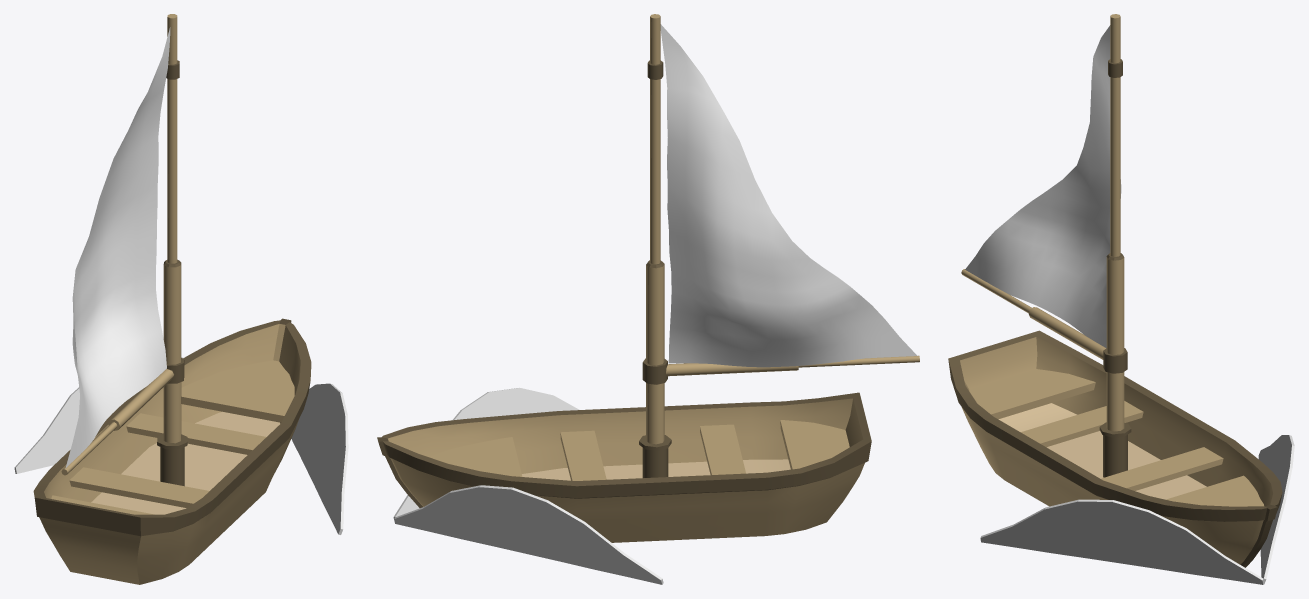
File: Ship_small.fbx
The picture shows the model from 3 angles, left to right: view 1: azimuth 30°, elevation 25°; view 2: azimuth 150°, elevation 25°; view 3: azimuth 270°, elevation 25°; orthographic projection. The views are drawn at different scales.
Parts seen in each view (by area): view 1: pCube5, Splashes; view 2: pCube5, Splashes; view 3: pCube5, Splashes.
Part boxes in pixels (x1,y1,x2,y2): pCube5: (33, 14, 311, 584); Splashes: (14, 357, 348, 534); pCube5: (377, 14, 919, 542); Splashes: (393, 388, 663, 584); pCube5: (948, 14, 1282, 567); Splashes: (980, 435, 1294, 584).
Size of the model in its own units: 37.82 by 46.55 by 30.25.
